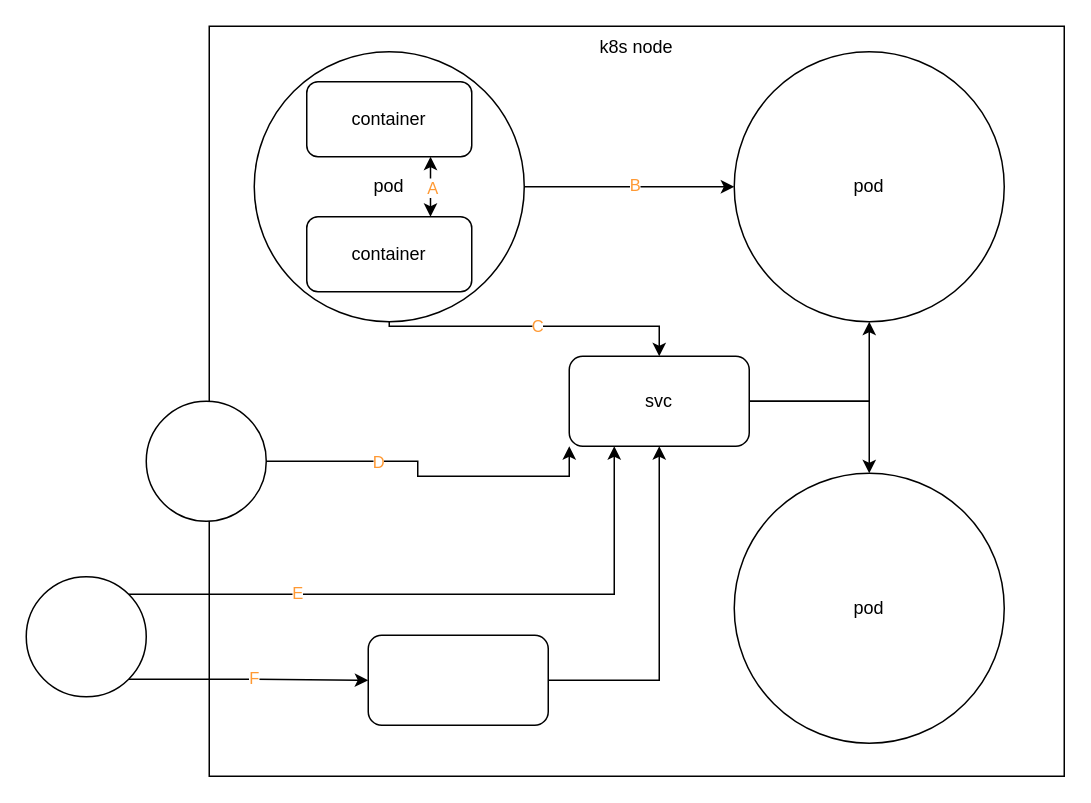
Image size: 1091x803. Some labels were removed from this diagram. Here are the shapes that lost their labels. From the top down, the centre of each, then its label:
At pixel 205 460: "NodePort".
At pixel 85 636: "LB".
At pixel 457 679: "ingress".
